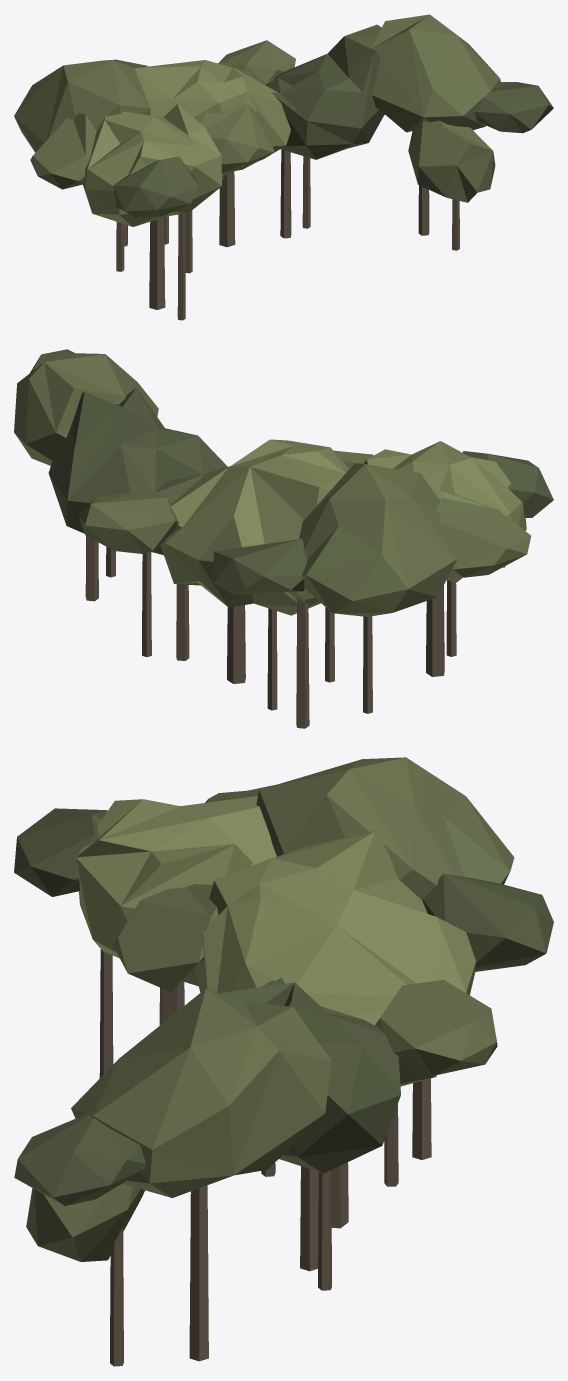
File: bg-treepatch.glb
3 renders of one model, top to bottom at view 1: azimuth 30°, elevation 25°; view 2: azimuth 150°, elevation 25°; view 3: azimuth 270°, elevation 25°, orthographic. The views are drawn at different scales.
Parts seen in each view (by area): view 1: SM_Generic_Tree_Patch_02; view 2: SM_Generic_Tree_Patch_02; view 3: SM_Generic_Tree_Patch_02.
Boxes of the visible parts, bbox=[...] form: SM_Generic_Tree_Patch_02: bbox=[14, 14, 553, 320]; SM_Generic_Tree_Patch_02: bbox=[14, 349, 553, 728]; SM_Generic_Tree_Patch_02: bbox=[14, 757, 553, 1366].
Size of the model in its own units: 24.65 by 10.63 by 14.42.
1 material, 1 textured.
